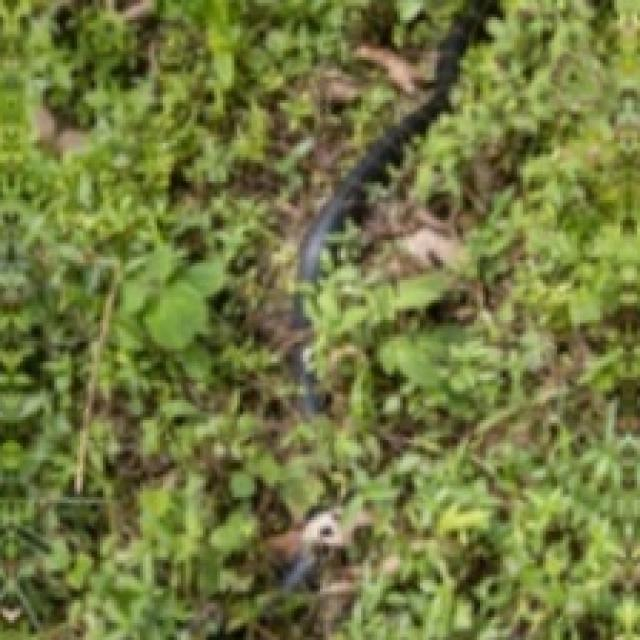king cobra: (299, 0, 498, 283), (282, 508, 370, 591), (291, 292, 322, 414)
